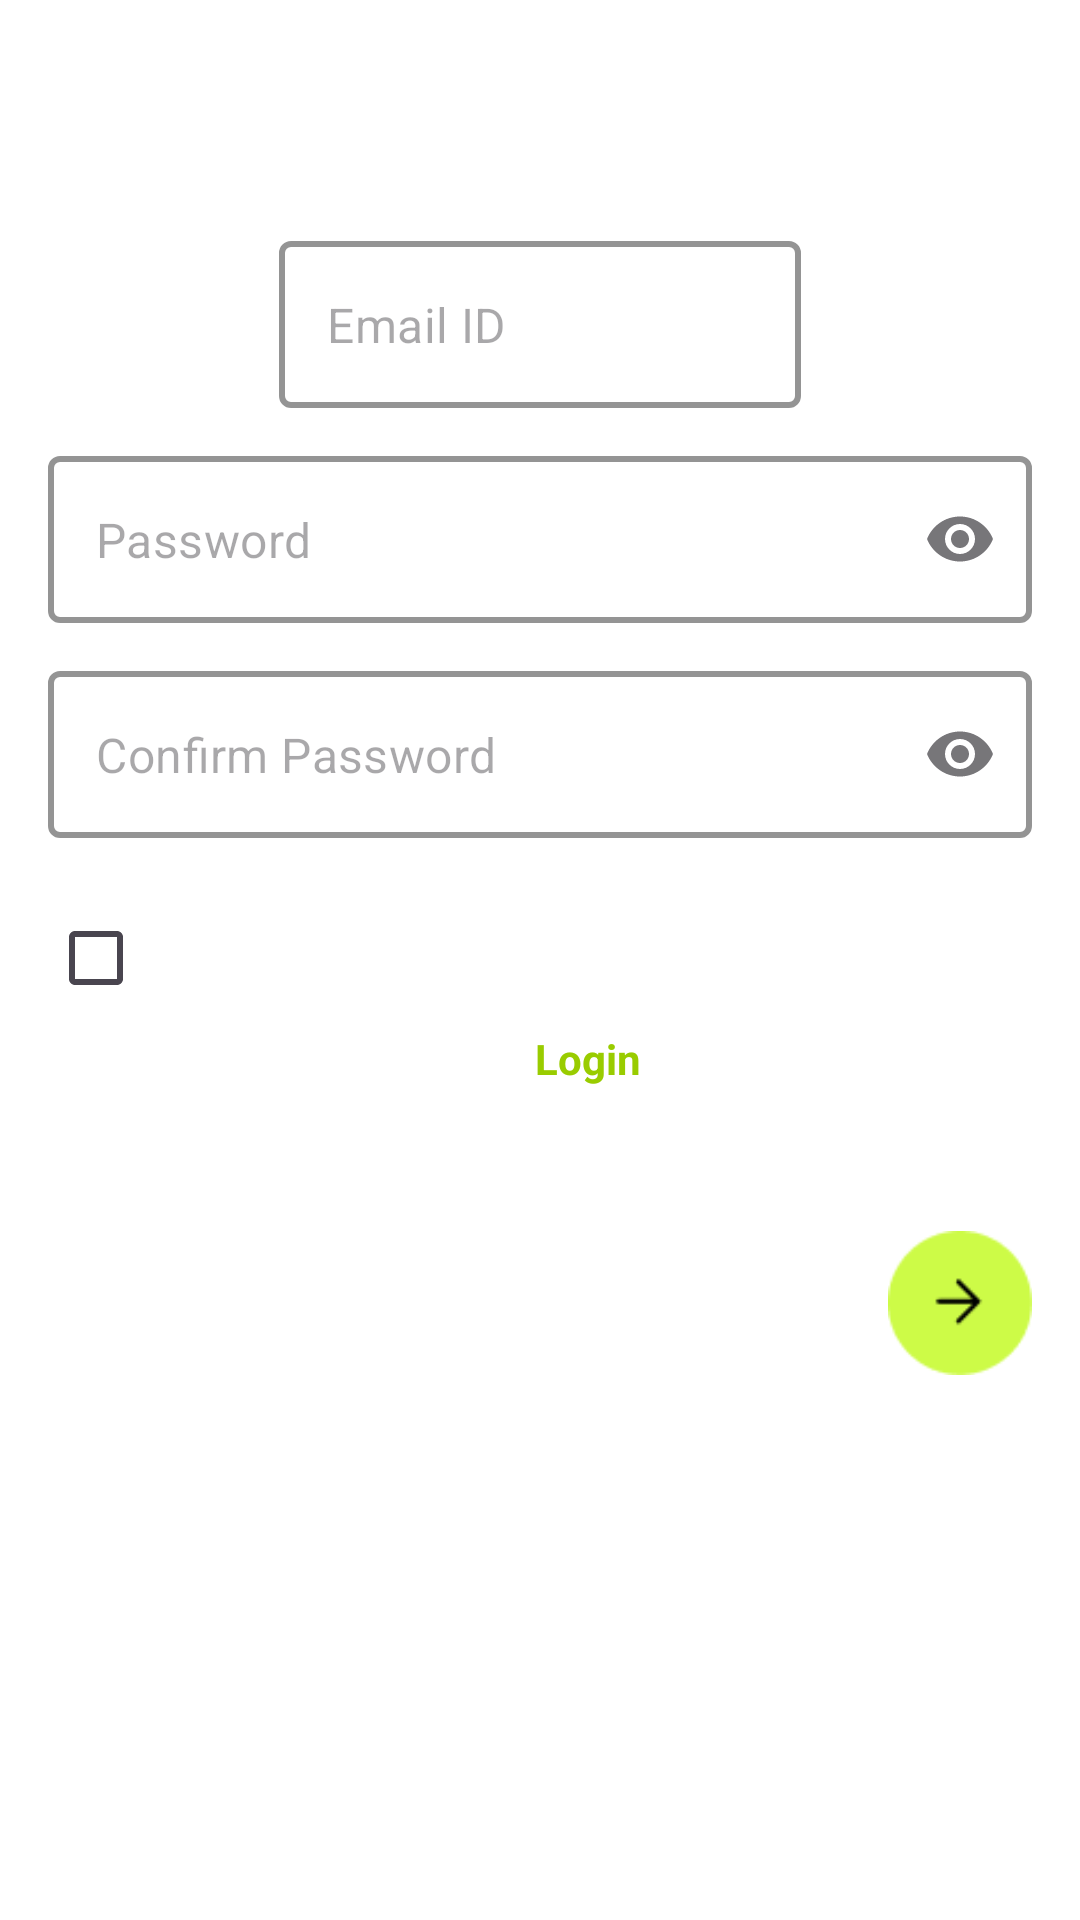

Locate icon controls on the screen. Image size 1080w x 1920h, boxes as (x1,y1,x2,y2).
Next Button: (888,1231,1032,1375)
